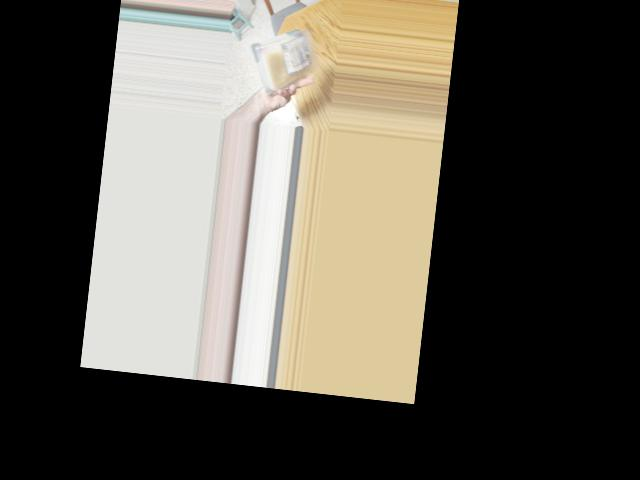cheese: (248, 24, 317, 82)
